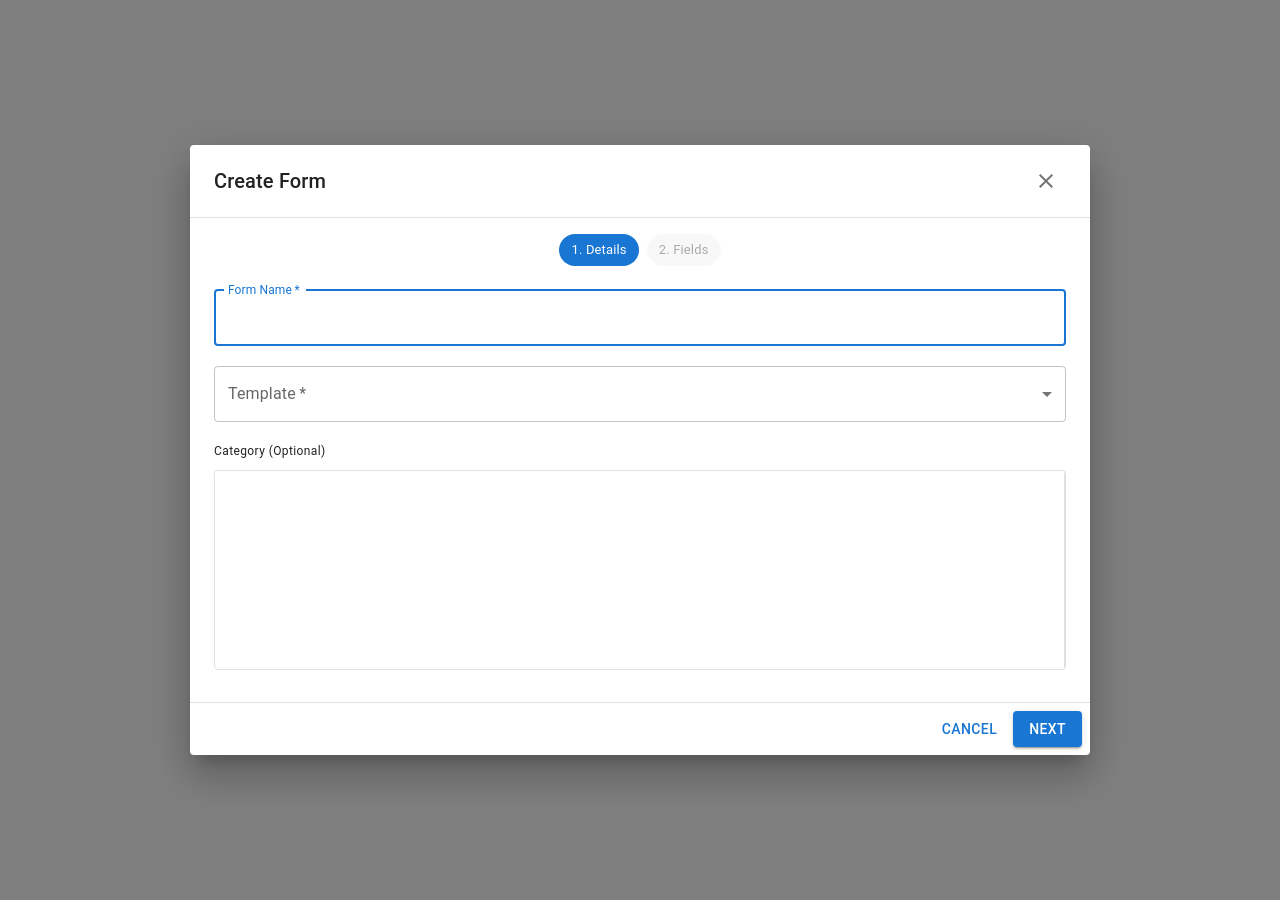
Test: FormWizard › shows validation error when Next clicked without template selected
// First textbox is "Form Name"
Type "My Form" into the field at (640, 318), box x1=214 y1=290 x2=1066 y2=346
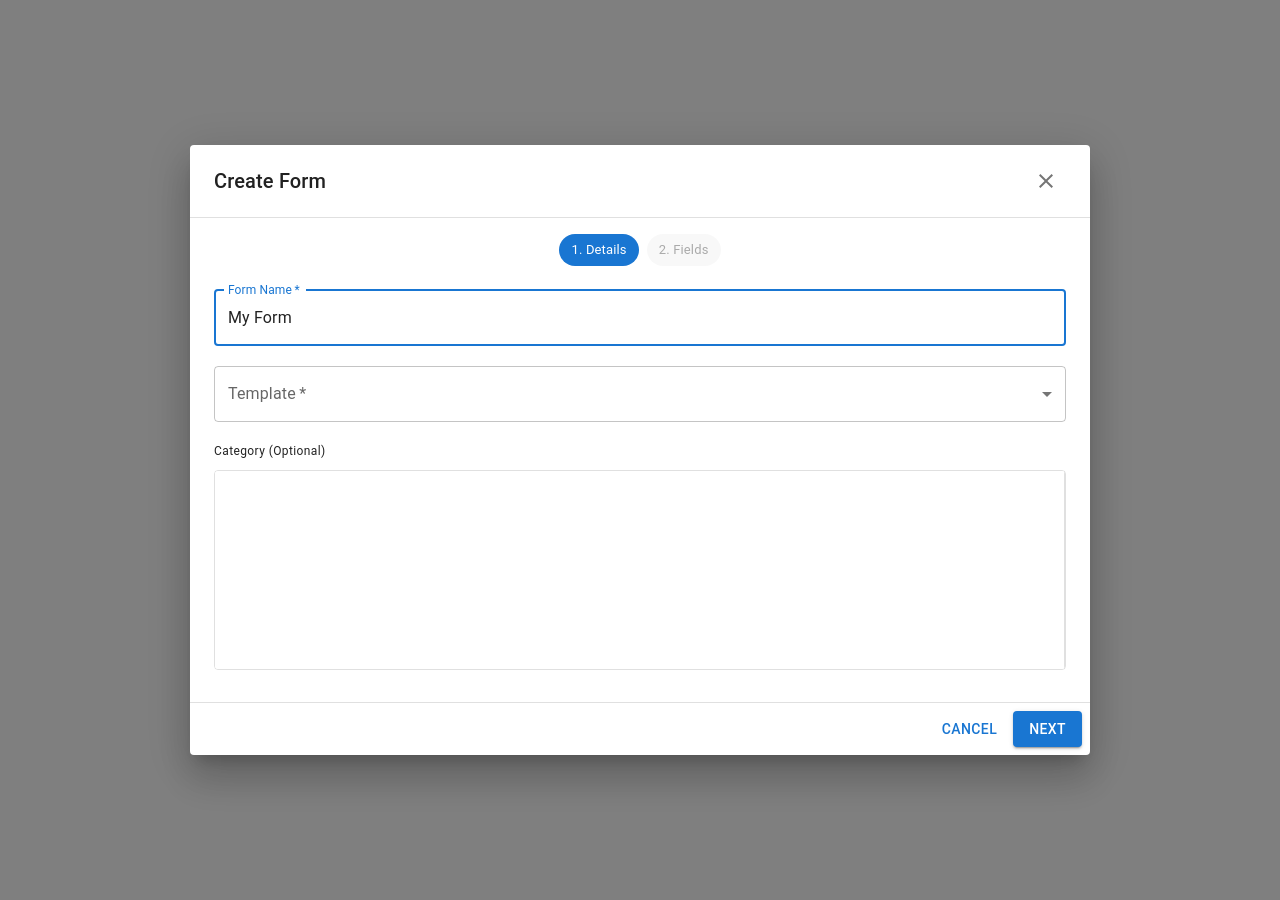
Click the button "Next" at (1048, 729), box x1=1013 y1=711 x2=1082 y2=747
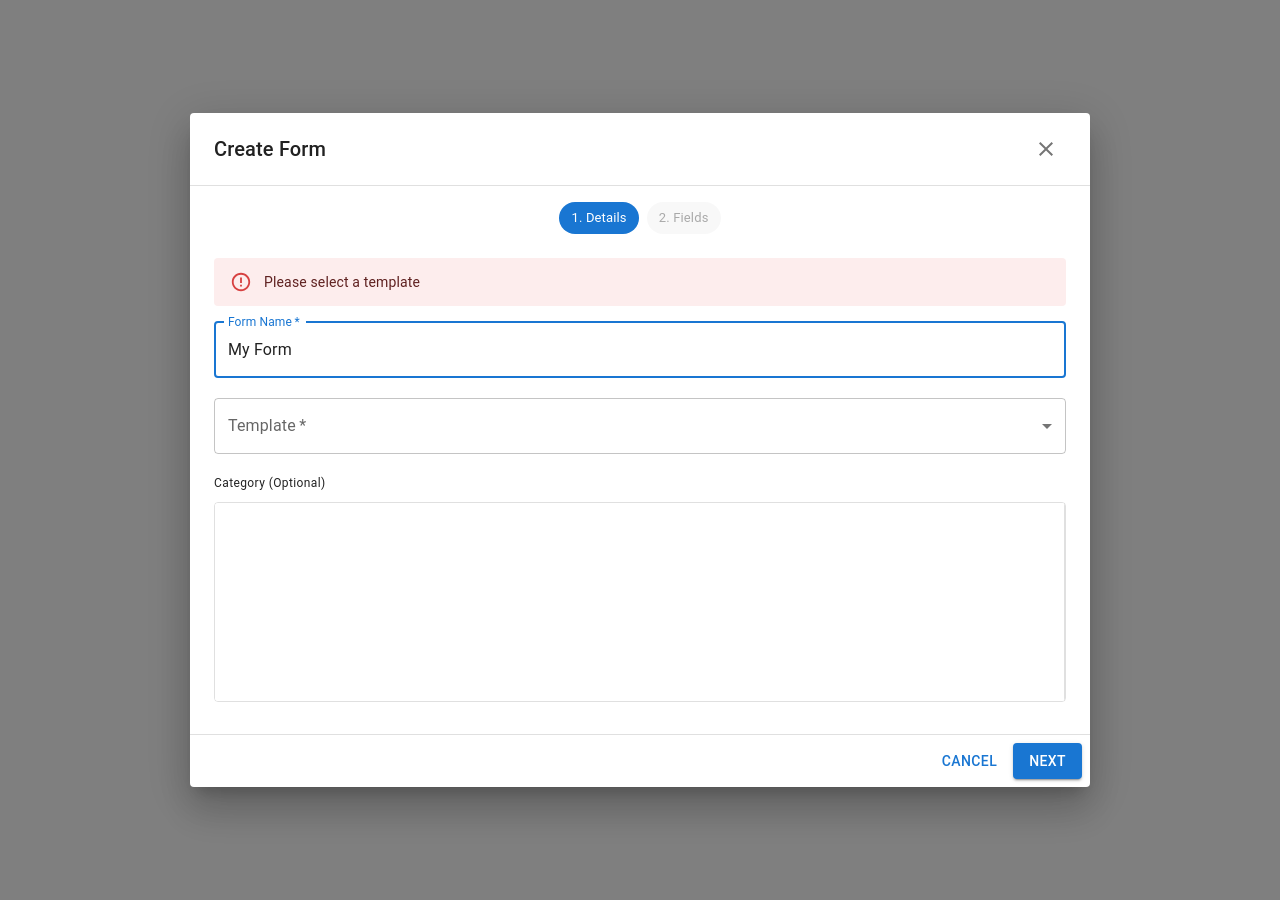
Expected: the text "Please select a template" is shown, x1=264 y1=274 x2=420 y2=290
